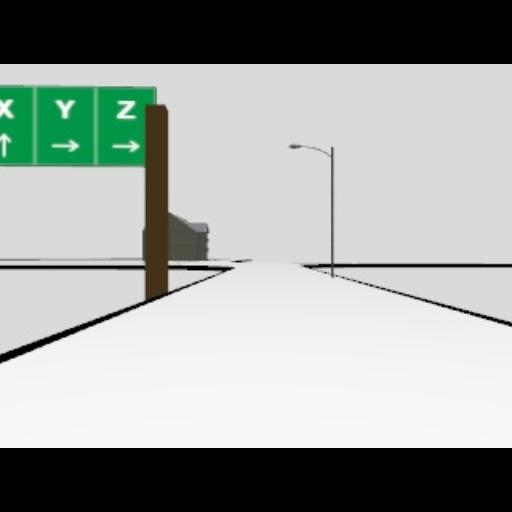Right: (50, 140, 82, 152), (111, 140, 141, 152)
Straight: (0, 131, 12, 157)
X: (0, 98, 14, 116)
Y: (53, 98, 75, 118)
Z: (115, 100, 137, 118)
